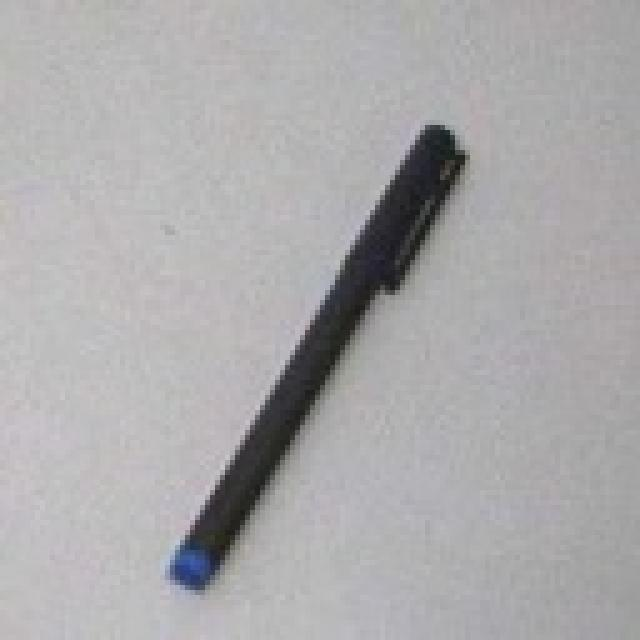pen: (161, 120, 488, 602)
